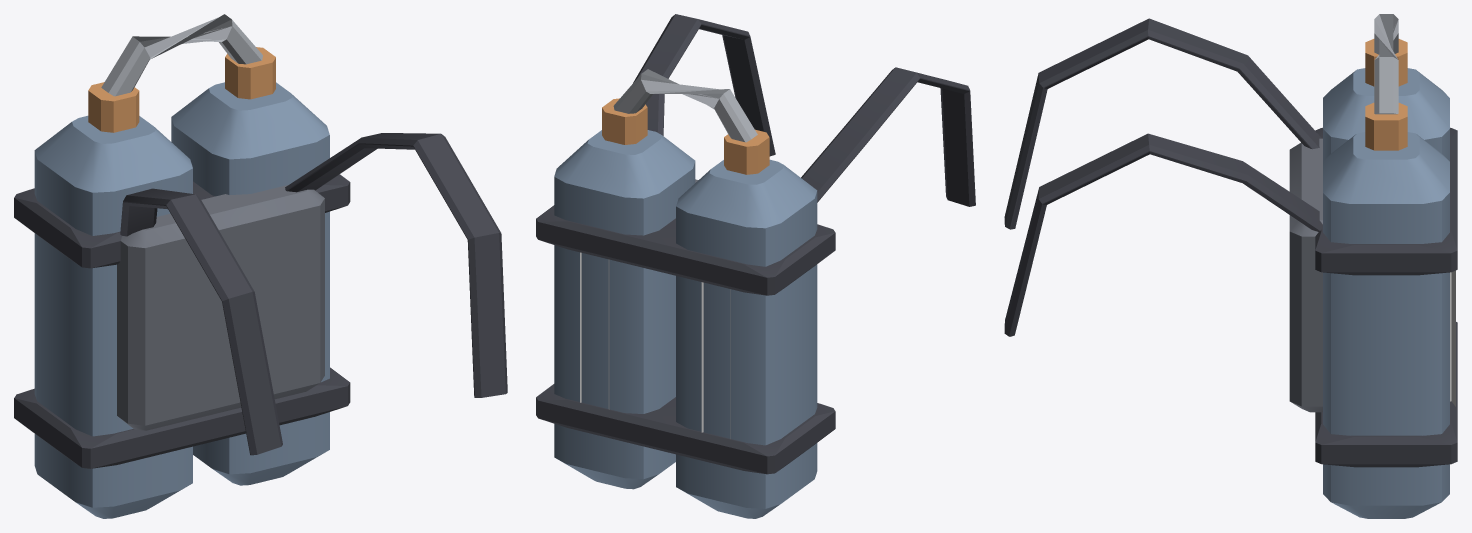
The model's file is gear_reservoir.glb.
3 renders of one model, left to right at view 1: azimuth 30°, elevation 25°; view 2: azimuth 150°, elevation 25°; view 3: azimuth 270°, elevation 25°, orthographic. The views are drawn at different scales.
Parts seen in each view (by area): view 1: torso__reservoir; view 2: torso__reservoir, torso__reservoir_glow; view 3: torso__reservoir, torso__reservoir_glow.
Part boxes in pixels (x1=…): torso__reservoir: x1=14, y1=14, x2=507, y2=518; torso__reservoir: x1=536, y1=14, x2=975, y2=518; torso__reservoir_glow: x1=580, y1=252, x2=730, y2=438; torso__reservoir: x1=1004, y1=14, x2=1457, y2=518; torso__reservoir_glow: x1=1450, y1=270, x2=1455, y2=406.
Bounding box in the file's own units: 0.204 × 0.3201 × 0.2996.
